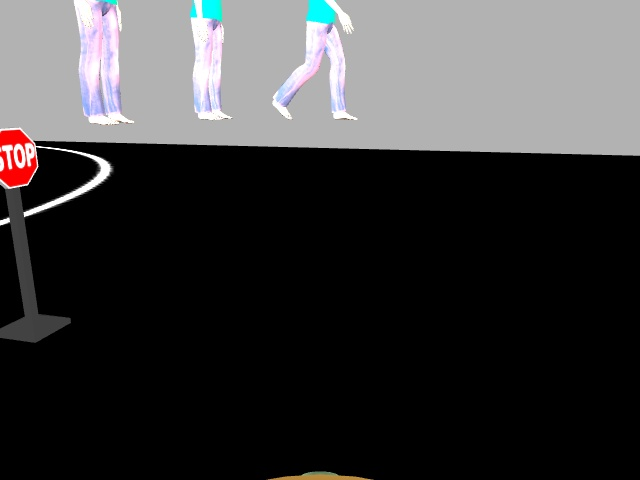Stop: (0, 126, 38, 188)
